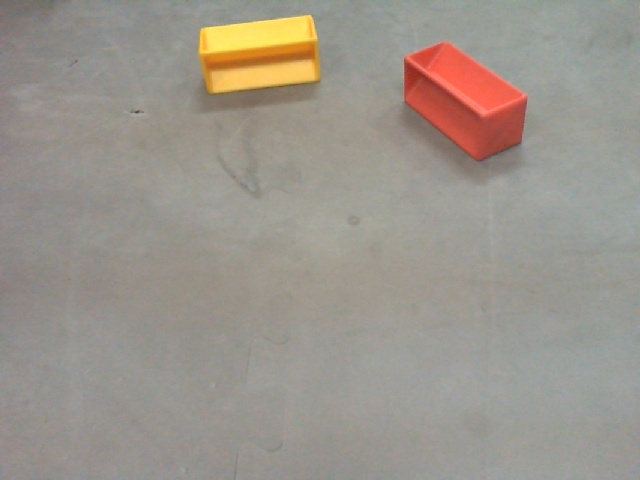RedSample: (399, 40, 529, 164)
YellowSample: (202, 15, 321, 92)
